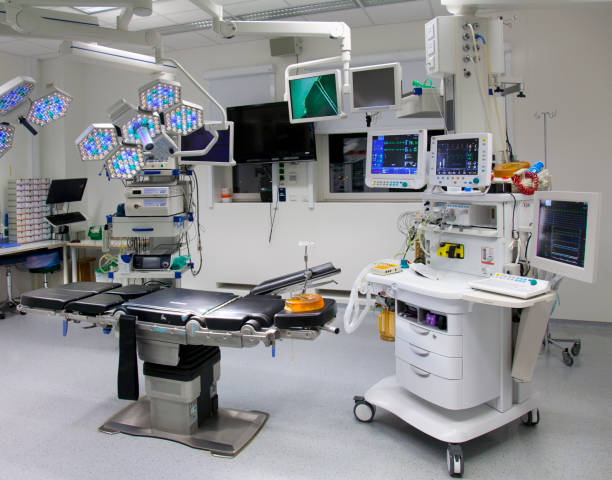TV: (222, 102, 316, 163)
bedside_monitor: (529, 190, 598, 284), (366, 127, 426, 187), (431, 133, 491, 187), (284, 72, 344, 123), (347, 63, 402, 111), (178, 121, 235, 167)
breathing_tube: (342, 258, 395, 336)
computer: (46, 178, 88, 205)
electrosurgical_unit: (122, 185, 185, 215)
iv_pole: (531, 108, 557, 169)
keyboard: (42, 211, 91, 226)
medical_drawer: (394, 314, 490, 409)
mouse: (69, 236, 81, 244)
operating_bed: (19, 261, 341, 460)
surgical_light: (77, 81, 205, 180), (1, 69, 74, 157)
ventilator: (352, 190, 559, 462)
